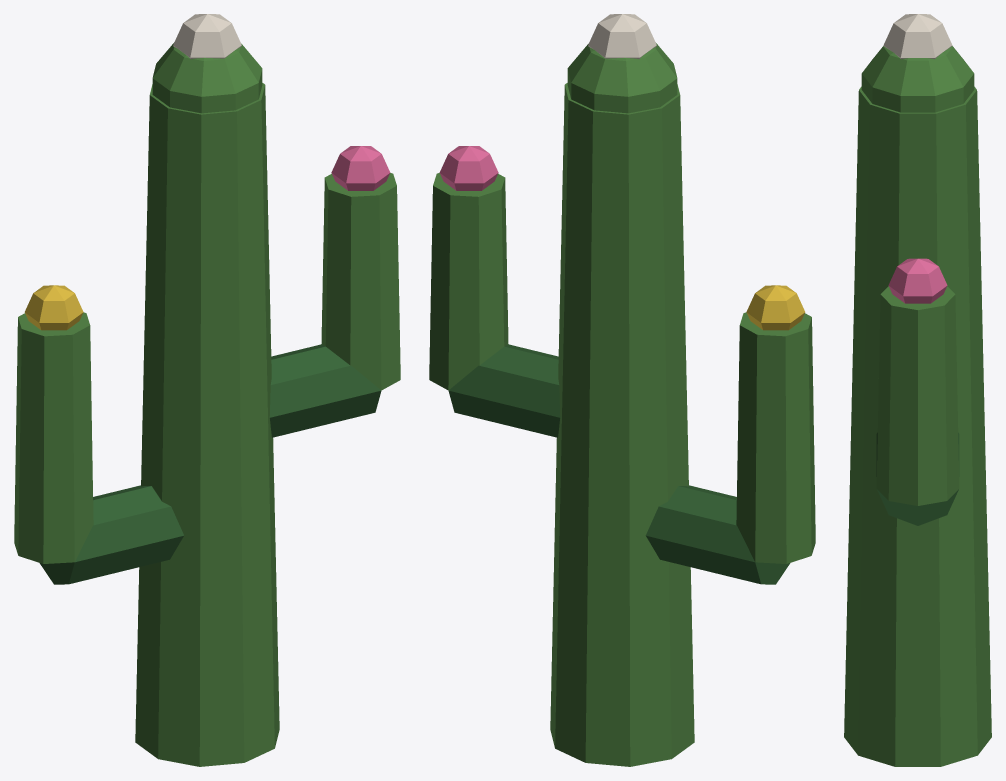
The model's file is cactus.glb.
The picture shows the model from 3 angles, left to right: view 1: azimuth 30°, elevation 25°; view 2: azimuth 150°, elevation 25°; view 3: azimuth 270°, elevation 25°; orthographic projection.
Visible parts, largest first — view 1: cactus; view 2: cactus; view 3: cactus.
Boxes of the visible parts, x1=… form: cactus: x1=14, y1=14, x2=400, y2=766; cactus: x1=429, y1=14, x2=815, y2=766; cactus: x1=844, y1=14, x2=991, y2=766.
Size of the model in its own units: 4.44 by 8.1 by 1.5.
